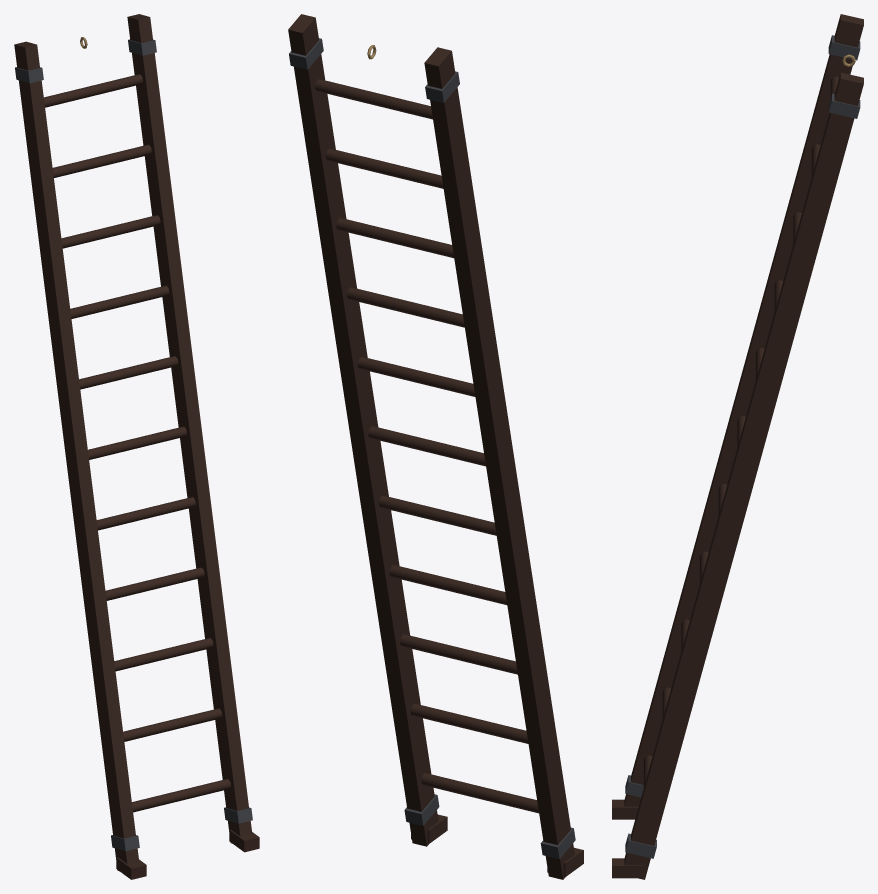
Rendered from prop_wooden_ladder.gltf.
3 renders of one model, left to right at view 1: azimuth 30°, elevation 25°; view 2: azimuth 150°, elevation 25°; view 3: azimuth 270°, elevation 25°, orthographic. The views are drawn at different scales.
Parts seen in each view (by area): view 1: Far; view 2: Far; view 3: Far.
Part boxes in pixels (x1,y1,x2,y2): Far: (14, 14, 259, 879); Far: (288, 14, 583, 879); Far: (612, 14, 863, 879).
Bounding box in the file's own units: 0.59 × 3.32 × 0.9462.
